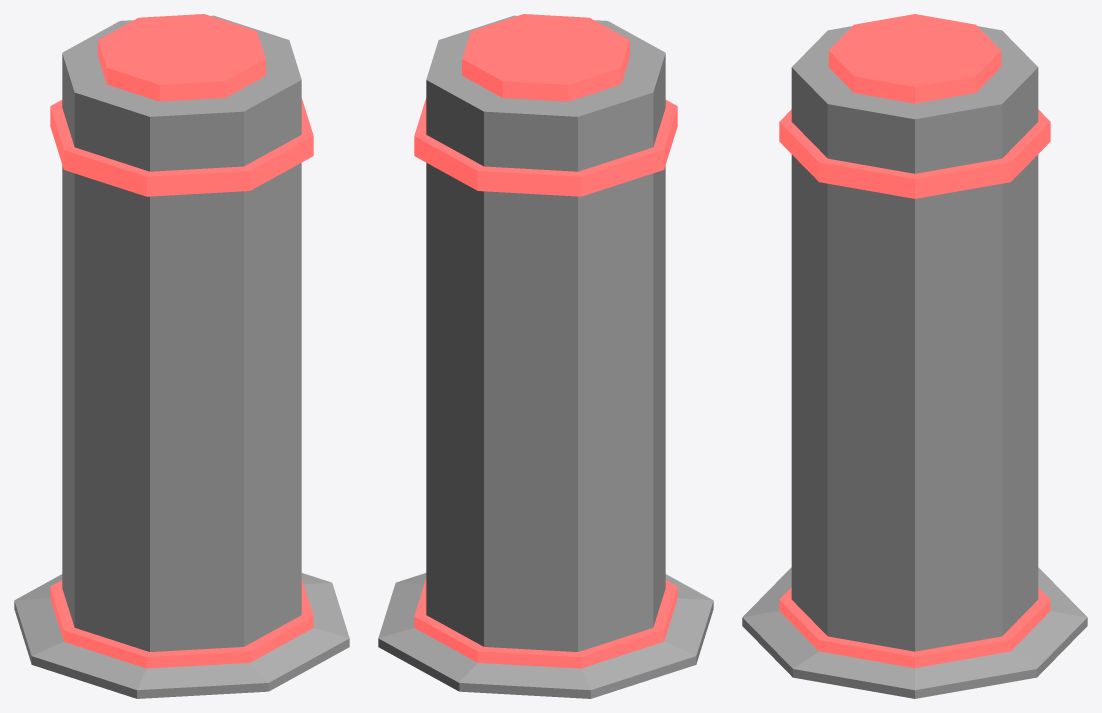
Rendered from Pulsante.fbx.
The picture shows the model from 3 angles, left to right: view 1: azimuth 30°, elevation 25°; view 2: azimuth 150°, elevation 25°; view 3: azimuth 270°, elevation 25°; orthographic projection.
Visible parts, largest first — view 1: PulsanteCorpo, PulsanteLuci, Pulsante; view 2: PulsanteCorpo, PulsanteLuci, Pulsante; view 3: PulsanteCorpo, PulsanteLuci, Pulsante.
Boxes of the visible parts, box(x1,y1,x2,y2) form: PulsanteCorpo: box(14, 15, 349, 698); PulsanteLuci: box(50, 98, 313, 668); Pulsante: box(98, 14, 265, 101); PulsanteCorpo: box(378, 15, 713, 698); PulsanteLuci: box(414, 98, 677, 668); Pulsante: box(462, 14, 629, 101); PulsanteCorpo: box(742, 26, 1087, 698); PulsanteLuci: box(779, 109, 1050, 667); Pulsante: box(828, 14, 1001, 103).
Bounding box in the file's own units: 0.28 × 0.28 × 0.515.
